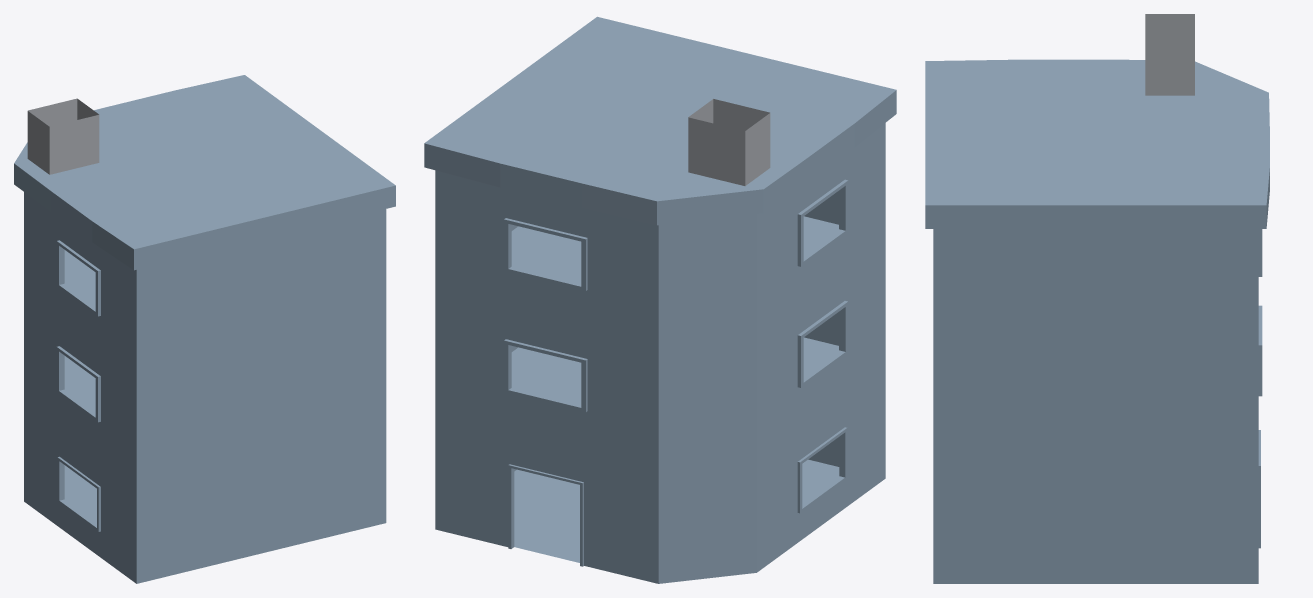
The model's file is Bld_O_high_L3_A.fbx.
3 renders of one model, left to right at view 1: azimuth 30°, elevation 25°; view 2: azimuth 150°, elevation 25°; view 3: azimuth 270°, elevation 25°, orthographic. The views are drawn at different scales.
Visible parts, largest first — view 1: Bld_O_high_L3_A_LOD0; view 2: Bld_O_high_L3_A_LOD0; view 3: Bld_O_high_L3_A_LOD0.
Boxes of the visible parts, x1,y1,x2,y2 form: Bld_O_high_L3_A_LOD0: (14,75,395,583); Bld_O_high_L3_A_LOD0: (424,16,896,583); Bld_O_high_L3_A_LOD0: (925,14,1269,583).
Size of what is drawn, in the model's own units: 1380 by 2239 by 1495.
Materials: 1 (1 with a texture image).
